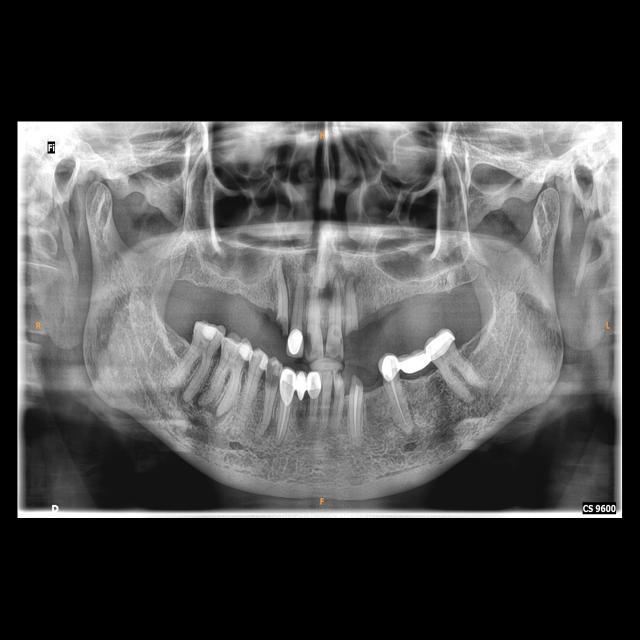dentin-curugu: (266, 368, 280, 389), (305, 329, 315, 357)
dolgu: (194, 319, 220, 347), (284, 330, 304, 356), (238, 339, 254, 364), (258, 351, 272, 371)
kanal-tedavisi: (390, 382, 407, 426), (350, 390, 361, 432), (277, 404, 289, 438)
kaplama: (428, 329, 455, 359), (280, 368, 294, 403), (380, 353, 400, 377), (308, 370, 322, 399)
kirik: (274, 313, 290, 334), (344, 324, 362, 342)
kok-enfeksiyonu: (181, 384, 225, 424)
kopru: (395, 344, 435, 382), (290, 368, 308, 407)
